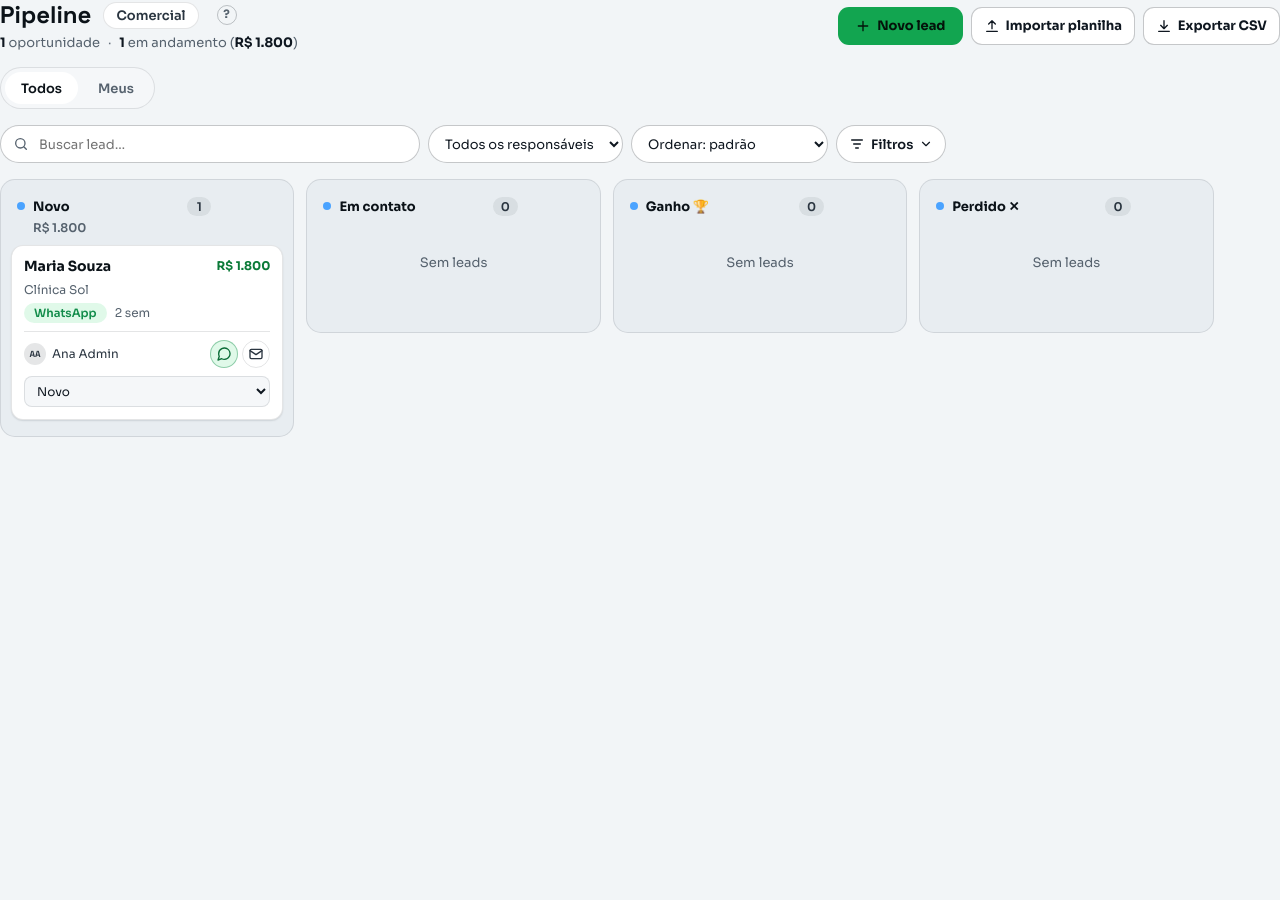
Scenario: F-02/F-03 mover lead › mover para Ganho não pede confirmação
Expected: the text "Maria Souza" is shown, [24, 258, 111, 276]
Select "Ganho" in the dropdown named "Mover Maria Souza para outra etapa" at point(147, 391), box [24, 376, 270, 406]
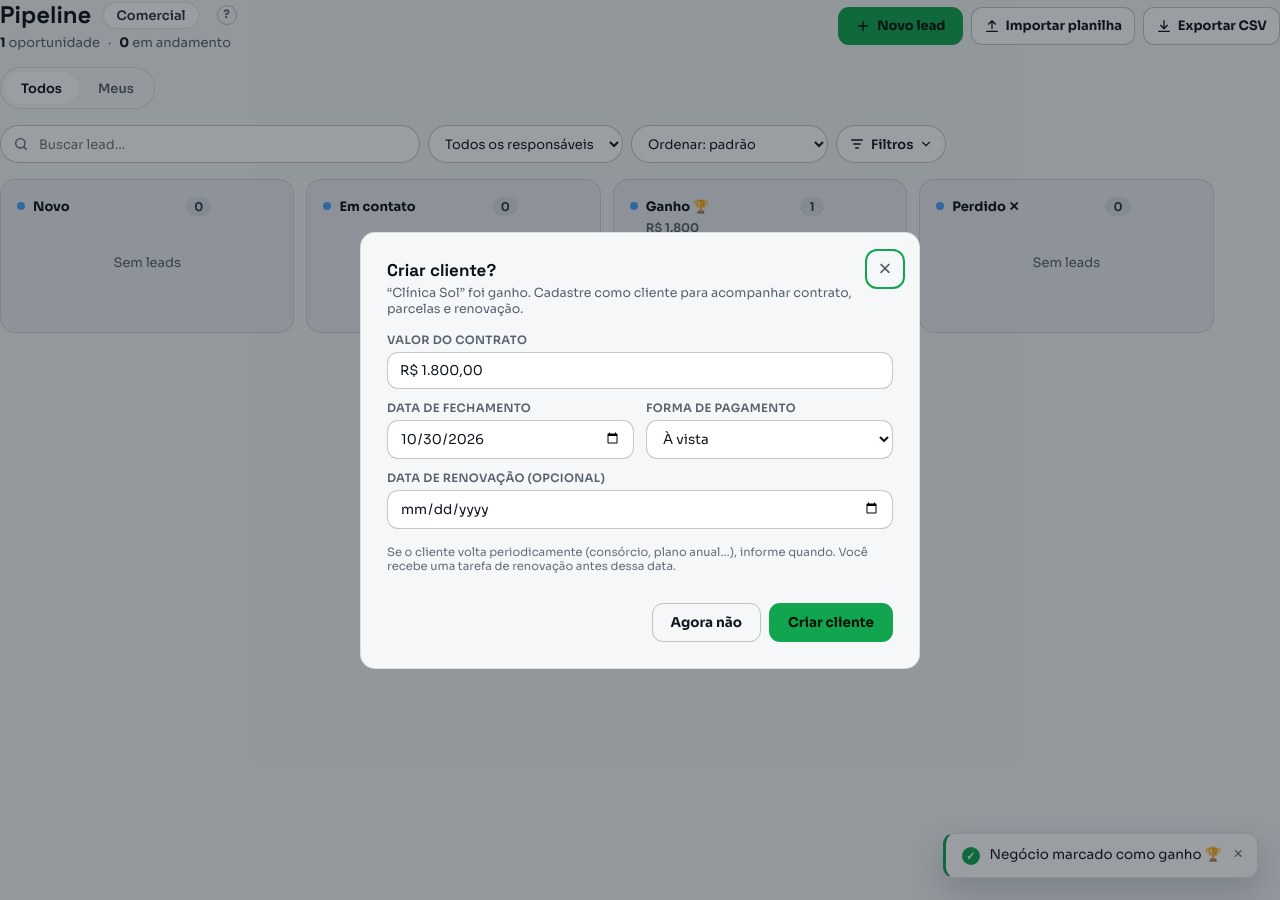
Now the text "Negócio marcado como ganho 🏆" is shown, box [990, 846, 1222, 865]
